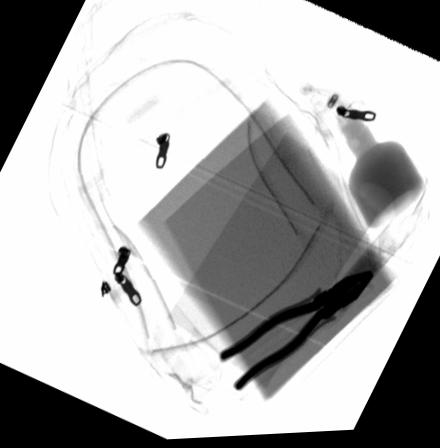Pliers: (218, 274, 374, 394)
